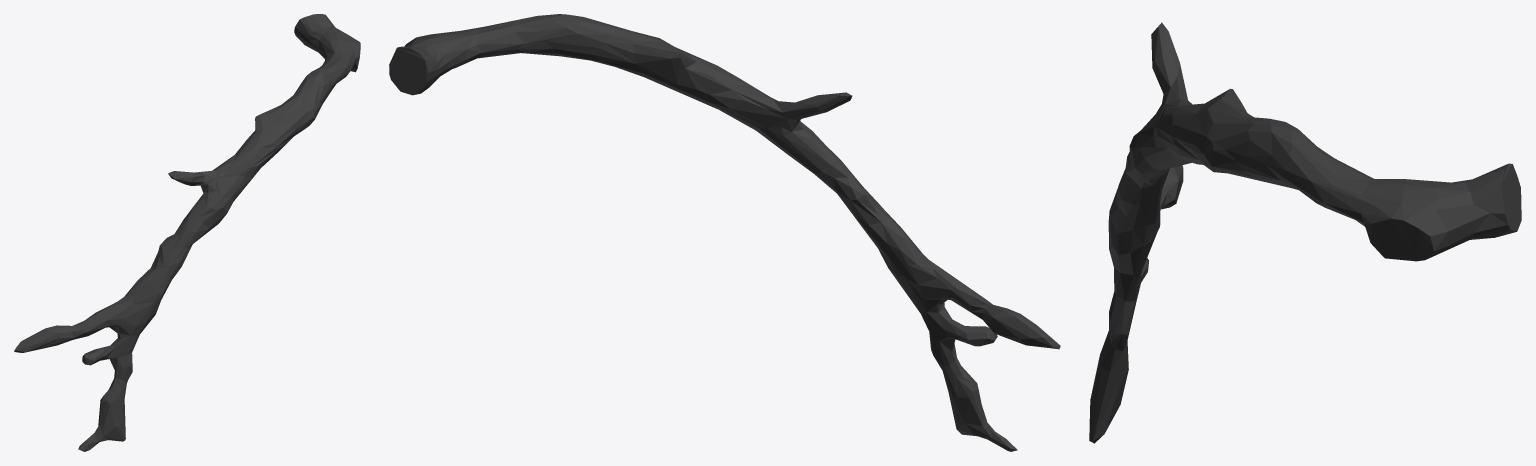
The model's file is Left_cranial_part_cranial_lobe_bronchus_1.glb.
3 renders of one model, left to right at view 1: azimuth 30°, elevation 25°; view 2: azimuth 150°, elevation 25°; view 3: azimuth 270°, elevation 25°, orthographic. The views are drawn at different scales.
Visible parts, largest first — view 1: Left_cranial_part_cranial_lobe_bronchus_1; view 2: Left_cranial_part_cranial_lobe_bronchus_1; view 3: Left_cranial_part_cranial_lobe_bronchus_1.
Boxes of the visible parts, x1,y1,x2,y2 form: Left_cranial_part_cranial_lobe_bronchus_1: [14, 14, 360, 451]; Left_cranial_part_cranial_lobe_bronchus_1: [389, 14, 1060, 451]; Left_cranial_part_cranial_lobe_bronchus_1: [1089, 22, 1521, 443].
Bounding box in the file's own units: 3.31 × 2.19 × 1.51.
Materials: 1 (1 with a texture image).
